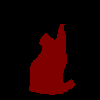vestito: (28, 24, 75, 95)
